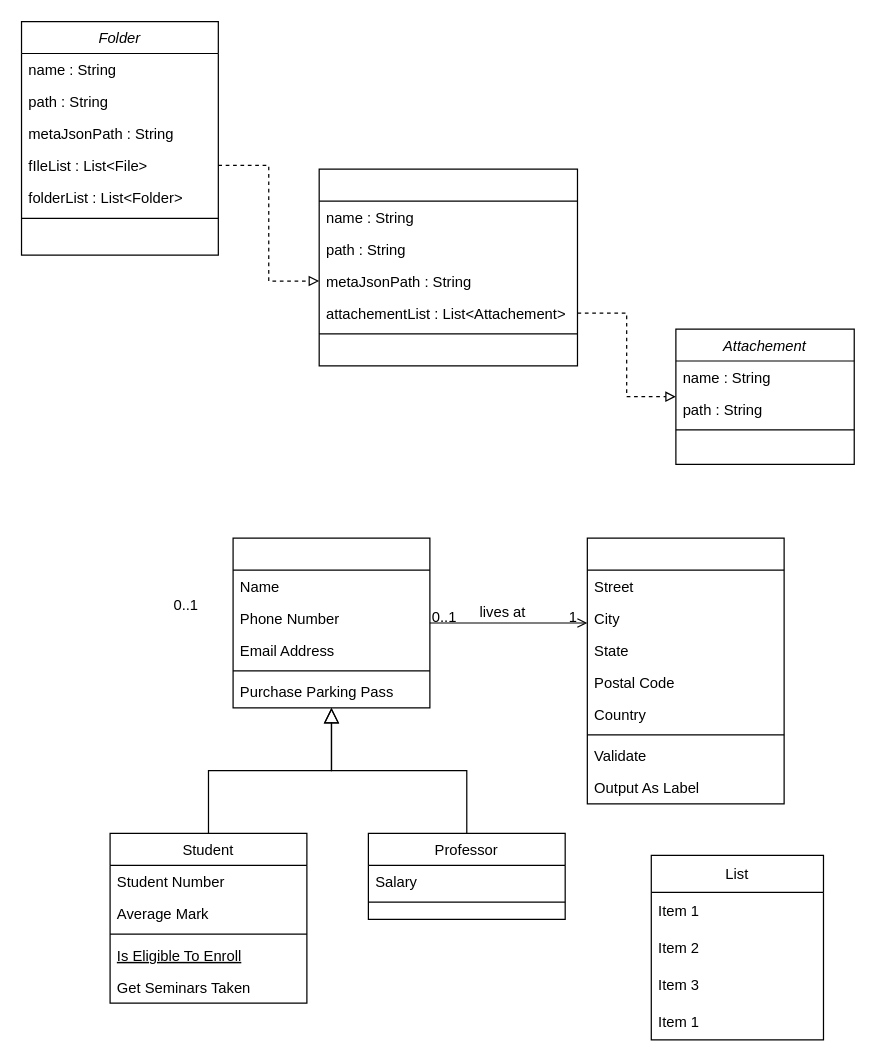
Image size: 876x1061. Some labels were removed from this diagram. Each missing label, with the box of its shape:
Address: (586, 537, 784, 804)
File: (318, 168, 577, 366)
Person: (232, 537, 430, 708)
